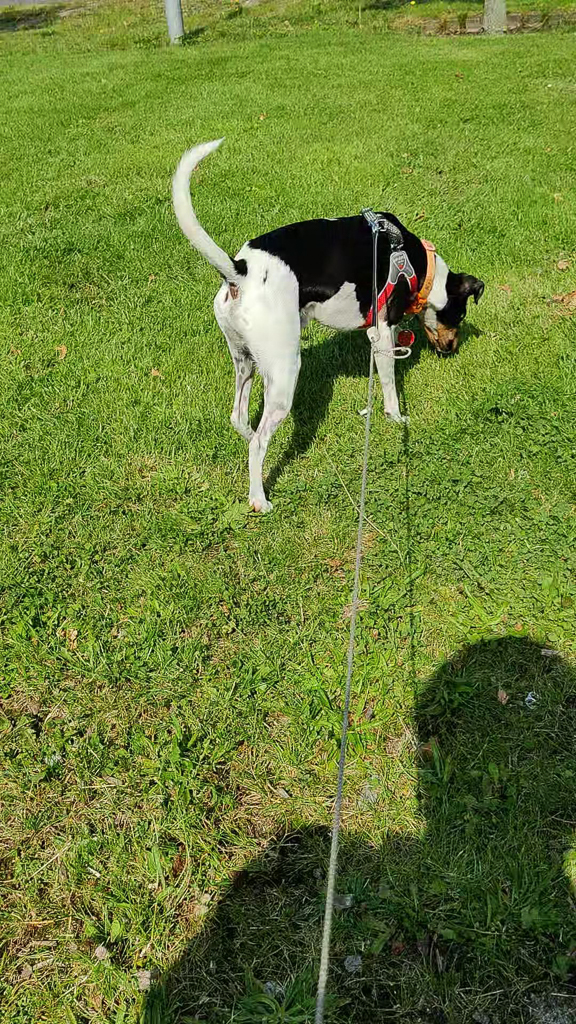Dog: (157, 132, 505, 532)
